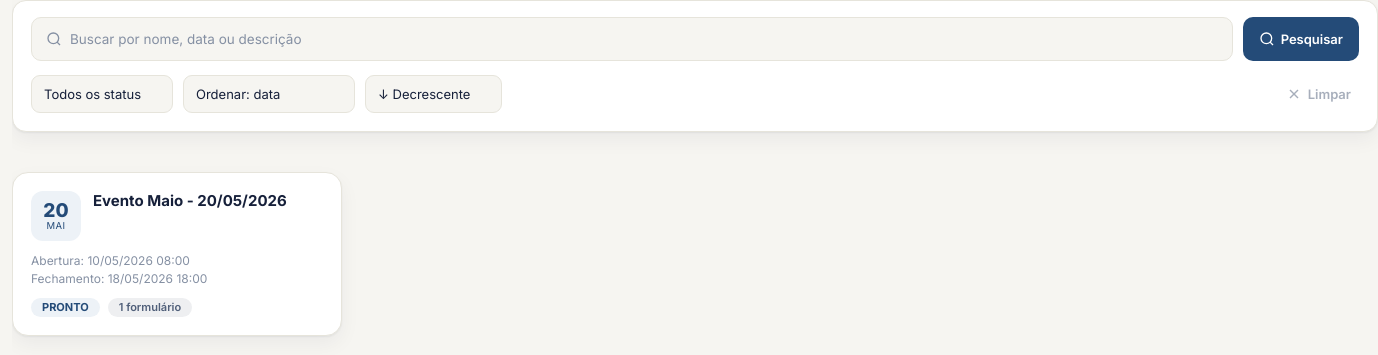
Test case: EventsScreen › viewer acessa eventos e formularios sem acoes administrativas
The image size is (1378, 355).
Click the text "Evento Maio - 20/05/2026".
click(190, 200)  # box [93,191,287,210]
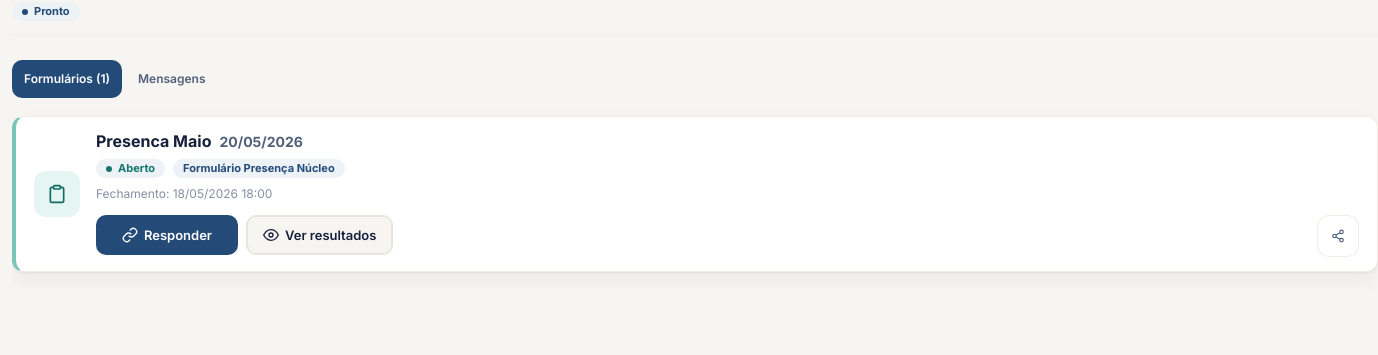
Result: the text "Presenca Maio" is shown at [96,131,212,151]
